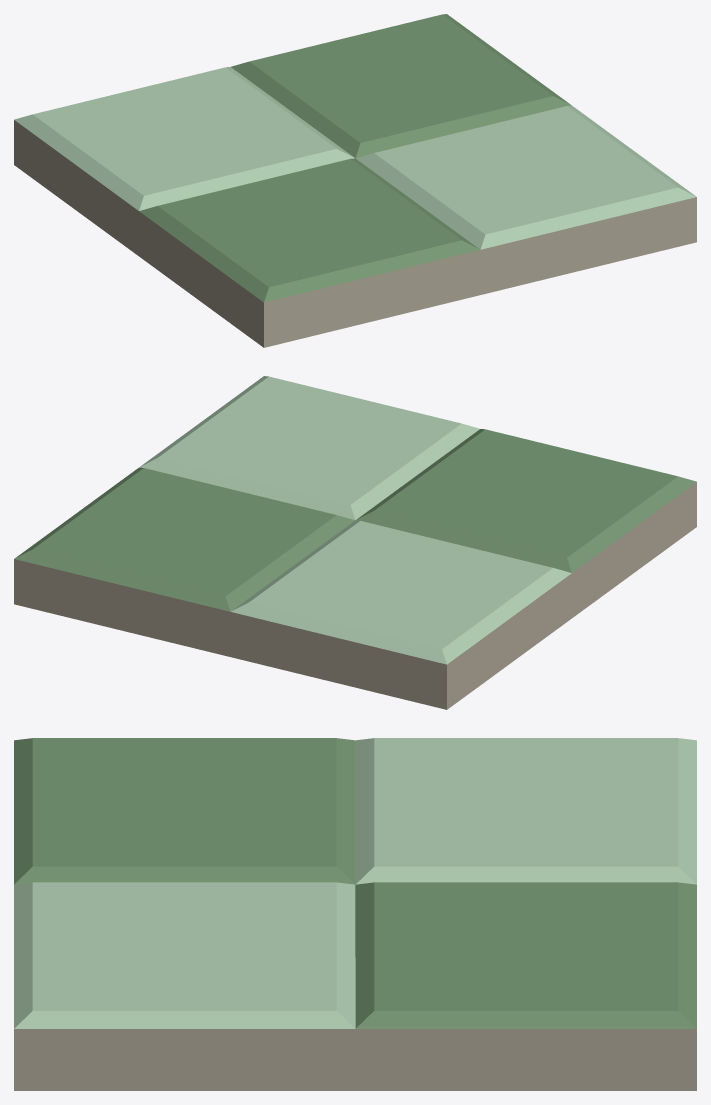
The model's file is Mesh_GroundCeramic_M1.fbx.
3 renders of one model, top to bottom at view 1: azimuth 30°, elevation 25°; view 2: azimuth 150°, elevation 25°; view 3: azimuth 270°, elevation 25°, orthographic. The views are drawn at different scales.
Visible parts, largest first — view 1: Mesh_GroundCeramic_M1; view 2: Mesh_GroundCeramic_M1; view 3: Mesh_GroundCeramic_M1.
Boxes of the visible parts, x1,y1,x2,y2 form: Mesh_GroundCeramic_M1: (14, 14, 696, 347); Mesh_GroundCeramic_M1: (14, 376, 696, 709); Mesh_GroundCeramic_M1: (14, 738, 696, 1090).
Size of the model in its own units: 1 by 0.1164 by 1.
